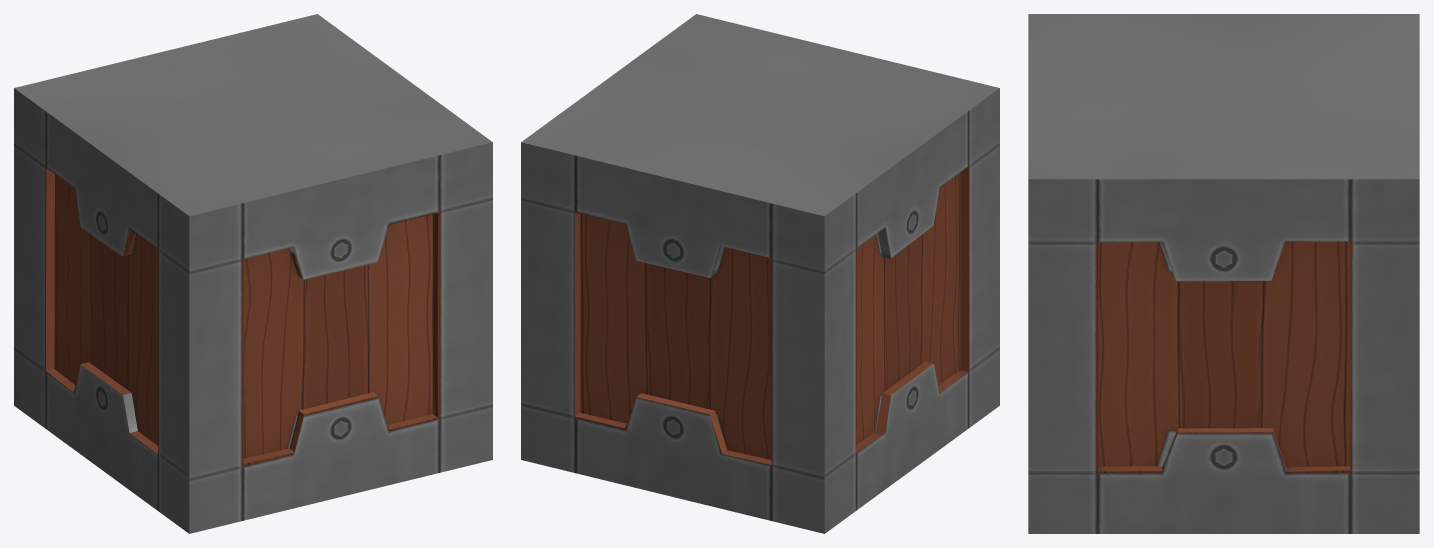
The model's file is Crate.fbx.
3 views of the same model, side by side, from view 1: azimuth 30°, elevation 25°; view 2: azimuth 150°, elevation 25°; view 3: azimuth 270°, elevation 25° (orthographic). The views are drawn at different scales.
Parts seen in each view (by area): view 1: Cube; view 2: Cube; view 3: Cube.
Boxes of the visible parts, x1,y1,x2,y2 form: Cube: [14, 14, 492, 533]; Cube: [521, 14, 999, 533]; Cube: [1028, 14, 1419, 533].
Bounding box in the file's own units: 1 × 1 × 1.
